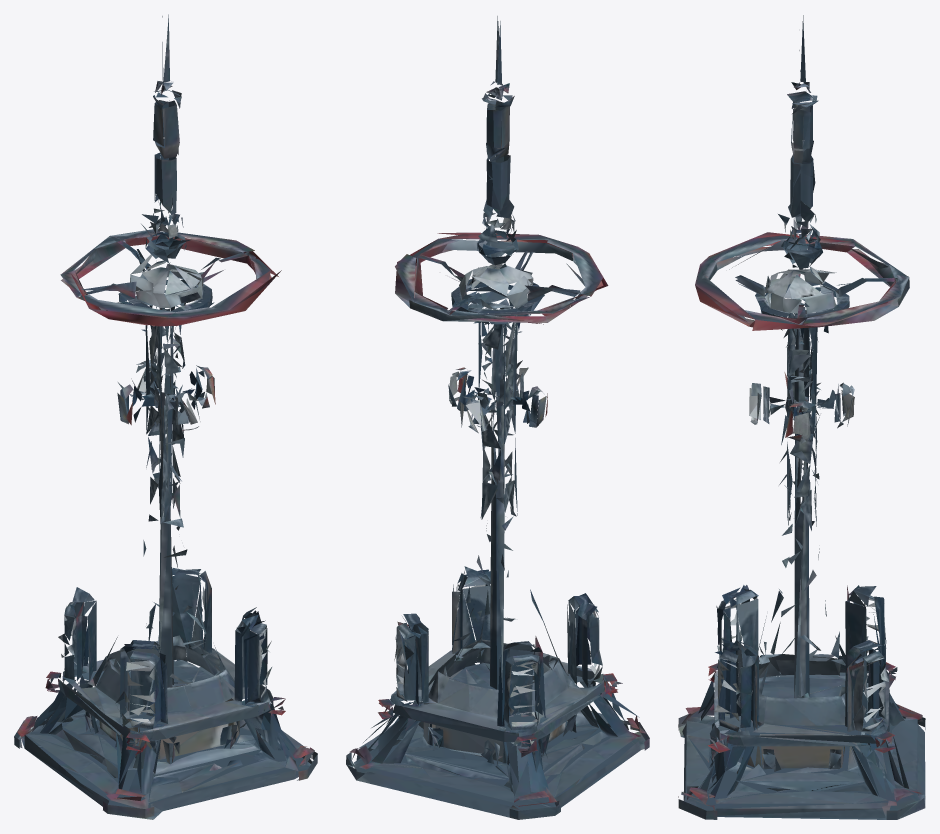
Rendered from relay_v2.glb.
3 views of the same model, side by side, from view 1: azimuth 30°, elevation 25°; view 2: azimuth 150°, elevation 25°; view 3: azimuth 270°, elevation 25° (orthographic).
Parts seen in each view (by area): view 1: output_unwrapped; view 2: output_unwrapped; view 3: output_unwrapped.
Part boxes in pixels (bbox=[...]): output_unwrapped: bbox=[14, 14, 317, 819]; output_unwrapped: bbox=[346, 16, 649, 819]; output_unwrapped: bbox=[678, 15, 925, 819].
Size of the model in its own units: 0.5672 by 1.91 by 0.5624.
1 material, 1 textured.
